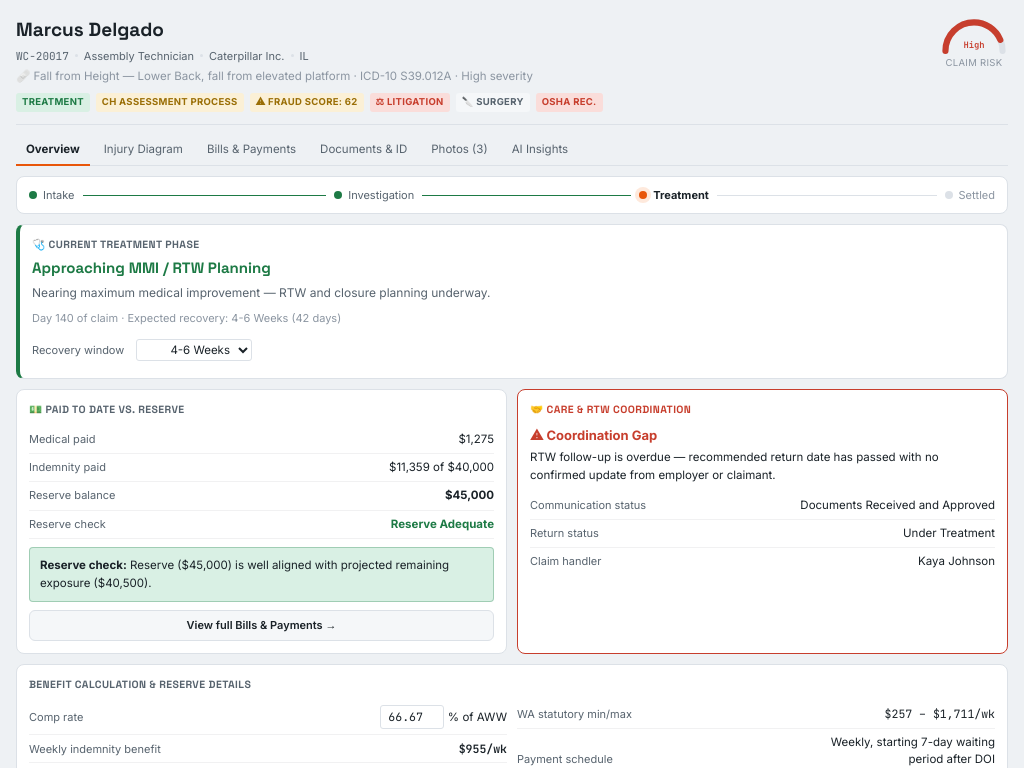
Test case: an empty injury type is refused inline, and nothing is sent
Expected: the header with test id "case-header" is shown, [16,16,1008,124]
Click the tab with test id "tab-injury". click: click(143, 150)
box: [94,134,193,166]
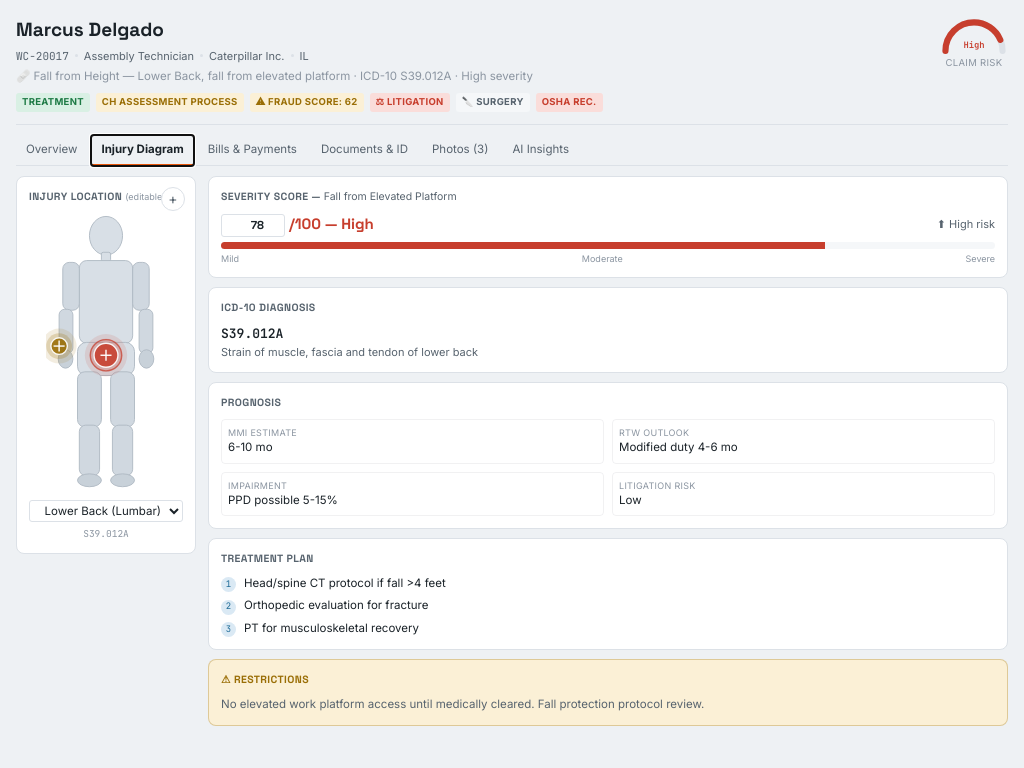
Click the button with test id "injury-add-open". click: click(173, 199)
box: [161,187,185,211]
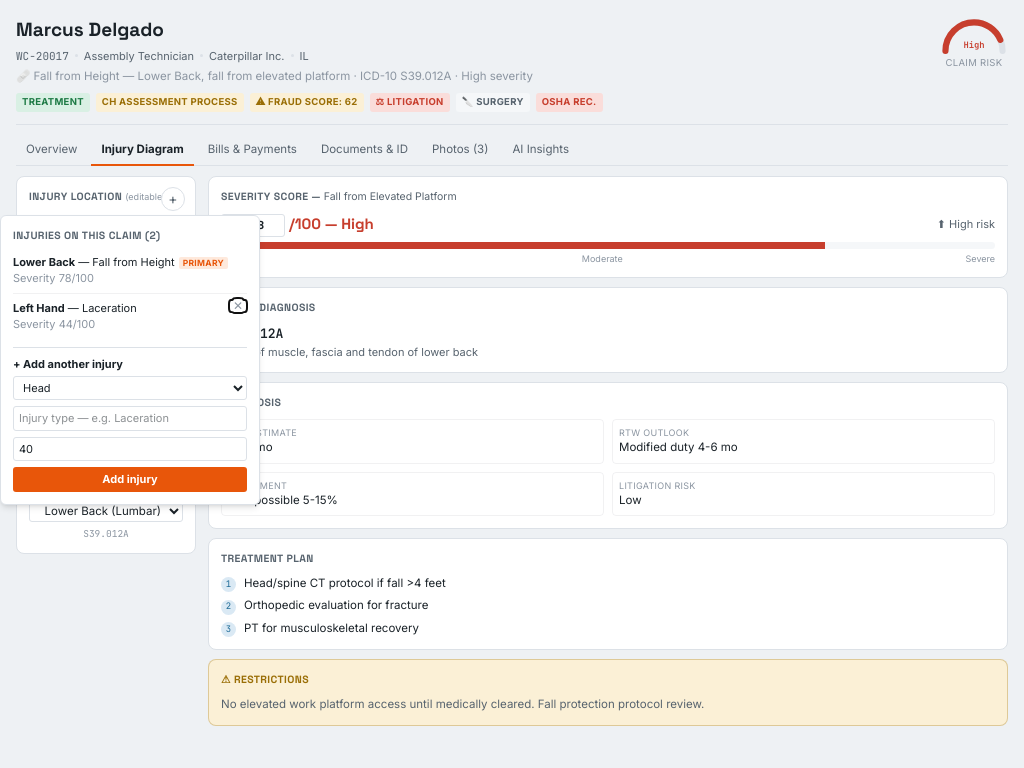
Click the button with test id "injury-add-submit". click: click(130, 480)
box: [13,467,247,492]
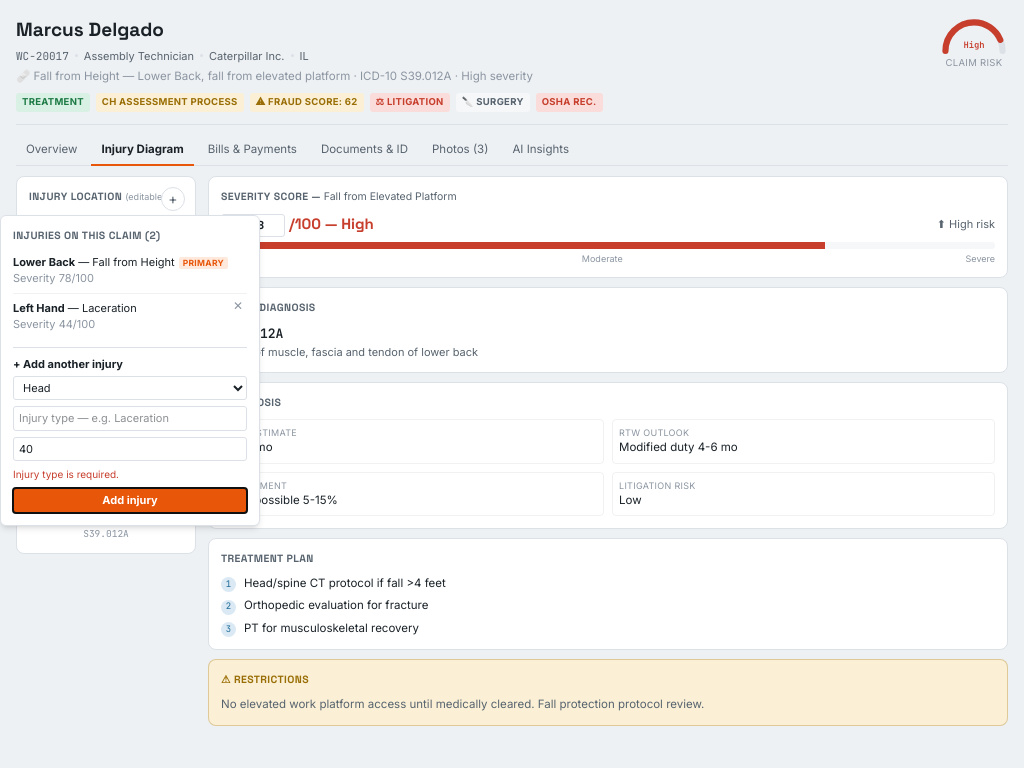
Now the message with test id "injury-add-invalid" shows "Injury type is required", box [13,468,119,480]
